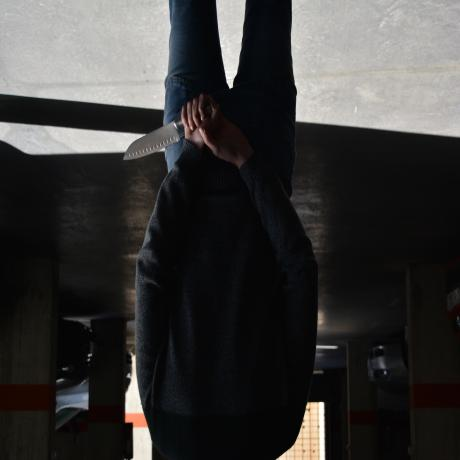1: (132, 0, 320, 460)
weapon: (122, 100, 216, 163), (123, 100, 215, 164)
